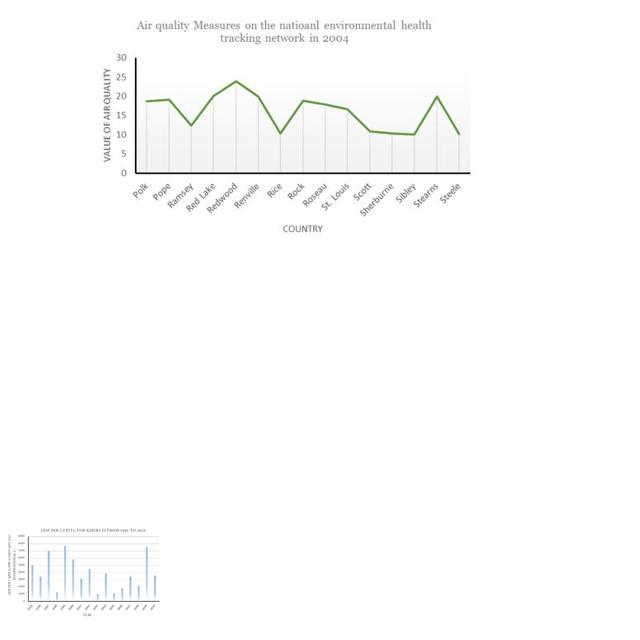Graph: (93, 13, 477, 241), (5, 526, 162, 618)
